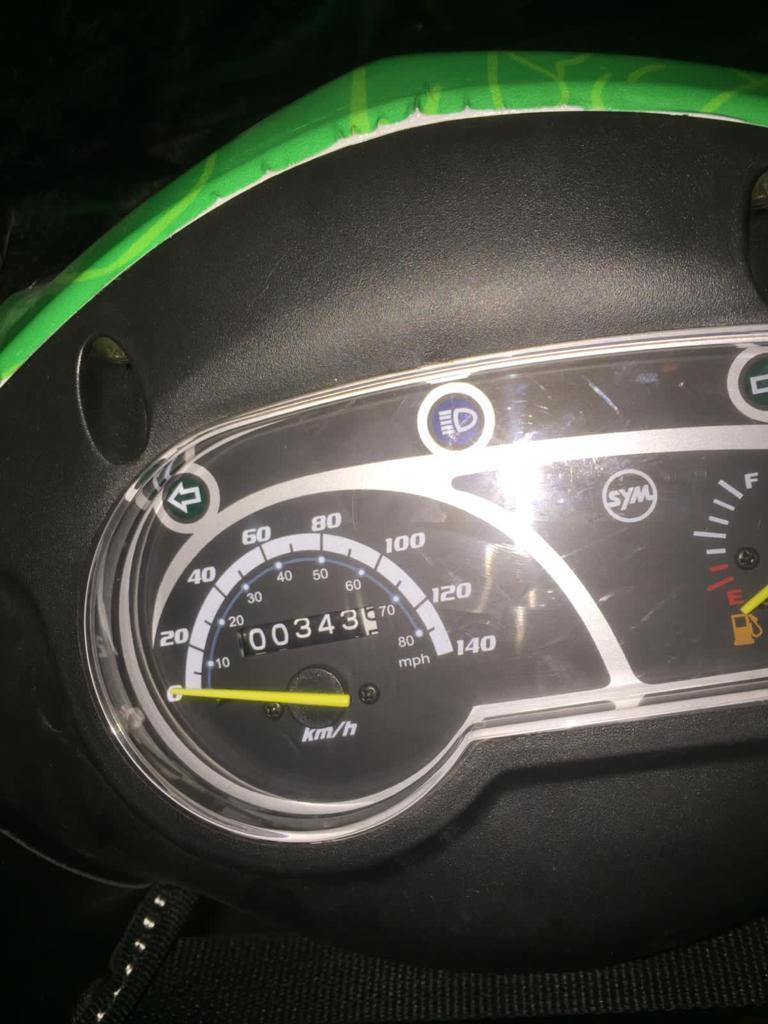0: (270, 621, 290, 647), (247, 626, 267, 651), (235, 613, 244, 626)
2: (230, 615, 236, 627)
3: (292, 615, 312, 639), (339, 608, 359, 631)
4: (316, 611, 335, 635)
6: (364, 603, 376, 620)
odometer: (230, 599, 380, 661)
